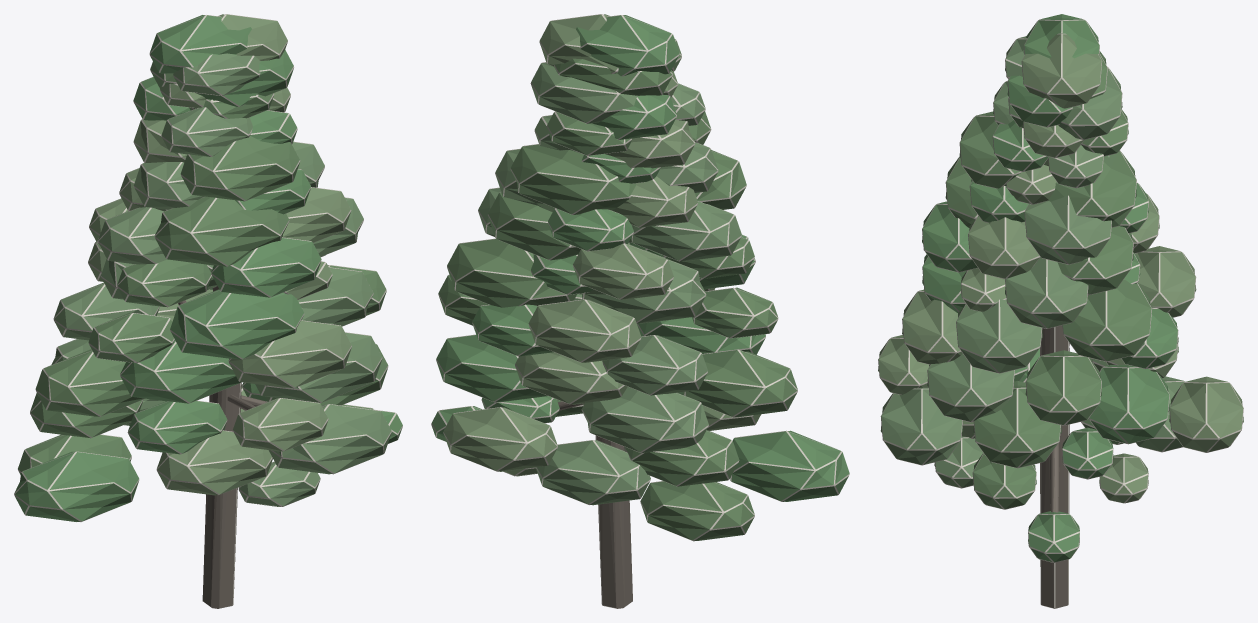
File: district_pine.glb
3 renders of one model, left to right at view 1: azimuth 30°, elevation 25°; view 2: azimuth 150°, elevation 25°; view 3: azimuth 270°, elevation 25°, orthographic. The views are drawn at different scales.
Parts seen in each view (by area): view 1: leaf0, leaf1, leaf2, leaf3, timber; view 2: leaf1, leaf2, leaf0, leaf3, timber; view 3: leaf2, leaf1, leaf3, leaf0, timber.
Part boxes in pixels (box(x1,y1,x2,y2)): leaf0: box(14, 15, 402, 521); leaf1: box(18, 62, 388, 474); leaf2: box(51, 53, 391, 506); leaf3: box(88, 14, 351, 495); timber: box(178, 286, 267, 608); leaf1: box(438, 58, 797, 541); leaf2: box(478, 39, 741, 505); leaf0: box(431, 15, 849, 501); leaf3: box(443, 14, 760, 476); timber: box(558, 401, 632, 608); leaf2: box(880, 36, 1184, 488); leaf1: box(945, 51, 1151, 509); leaf3: box(878, 33, 1243, 503); leaf0: box(922, 14, 1178, 562); timber: box(1040, 325, 1069, 608).
Bounding box in the file's own units: 5.98 × 8.61 × 4.94.
